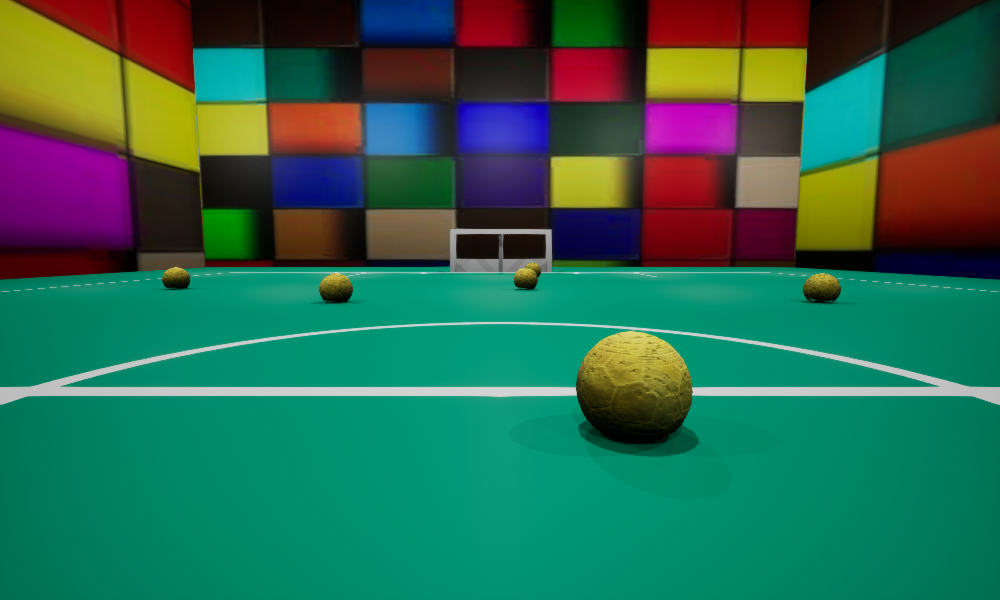b: (576, 331, 692, 441), (803, 273, 840, 302), (319, 273, 352, 302), (162, 267, 189, 288), (514, 268, 537, 289), (525, 262, 540, 276)
g: (450, 229, 551, 271)
